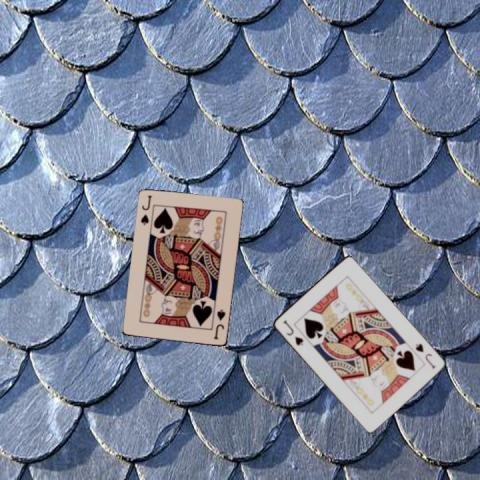Js: (279, 316, 305, 346), (412, 341, 437, 370), (210, 306, 226, 340), (138, 192, 153, 226)
